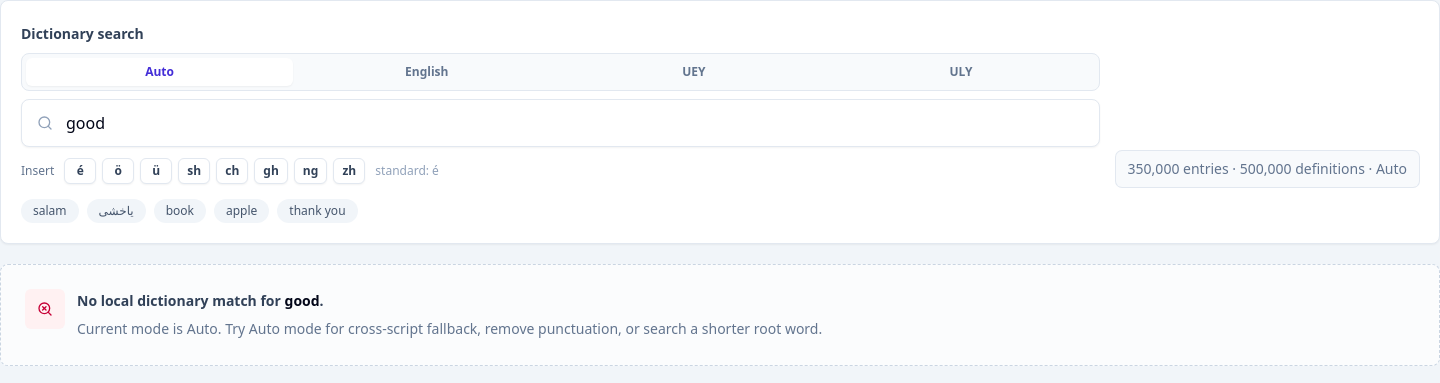
Test: DictionaryPanel › passes the selected search mode to lookup
Click the button "English" at [427, 72], box [293,58,560,86]
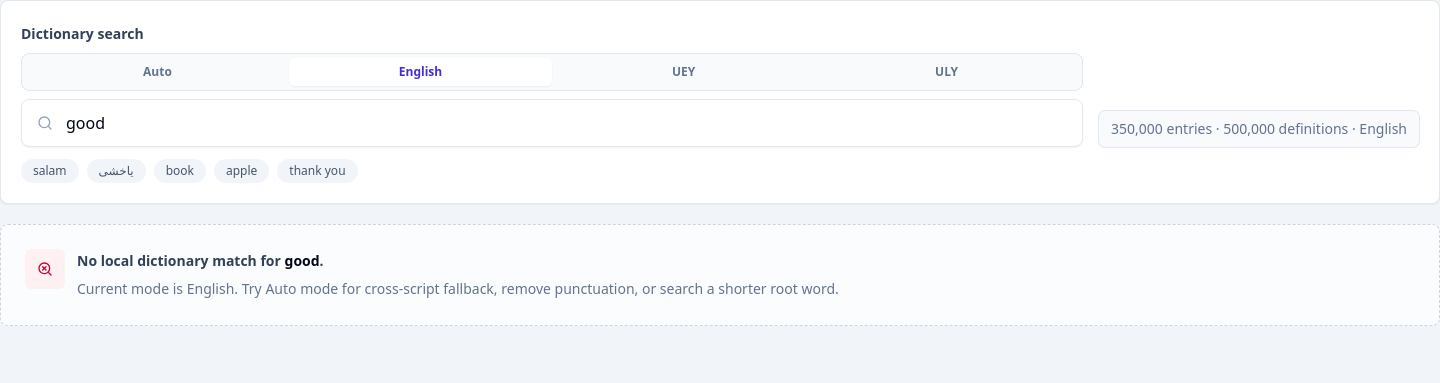
Now the dropdown with placeholder "Search English definitions..." is shown, box [21,99,1083,147]
